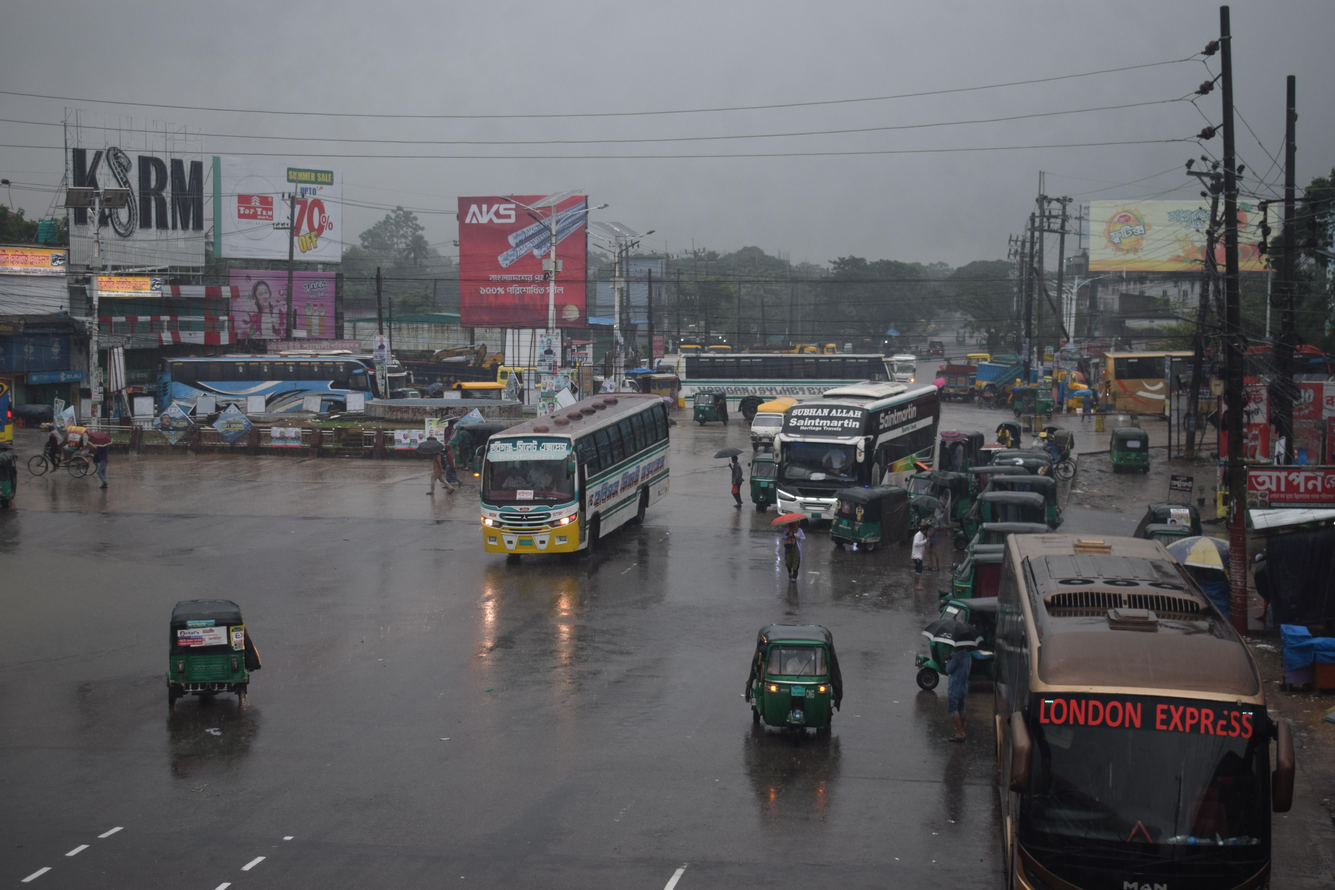Bus: (971, 512, 1313, 890), (451, 375, 697, 603), (766, 357, 949, 555), (145, 345, 396, 460), (643, 331, 904, 425), (1086, 334, 1284, 444)
Car: (14, 409, 115, 494)
